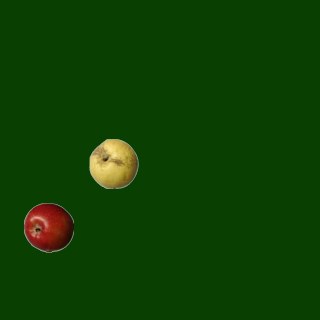Apple Braeburn: (23, 202, 73, 252)
Apple Golden 1: (88, 138, 138, 188)
